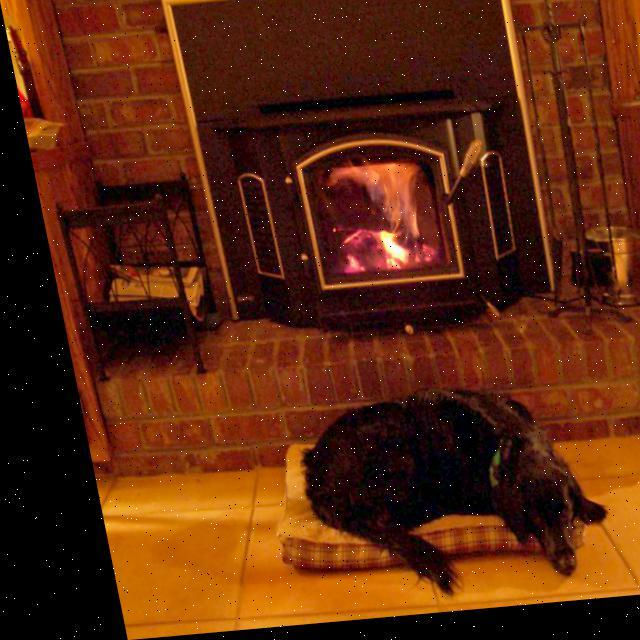Fire: (306, 168, 430, 276)
